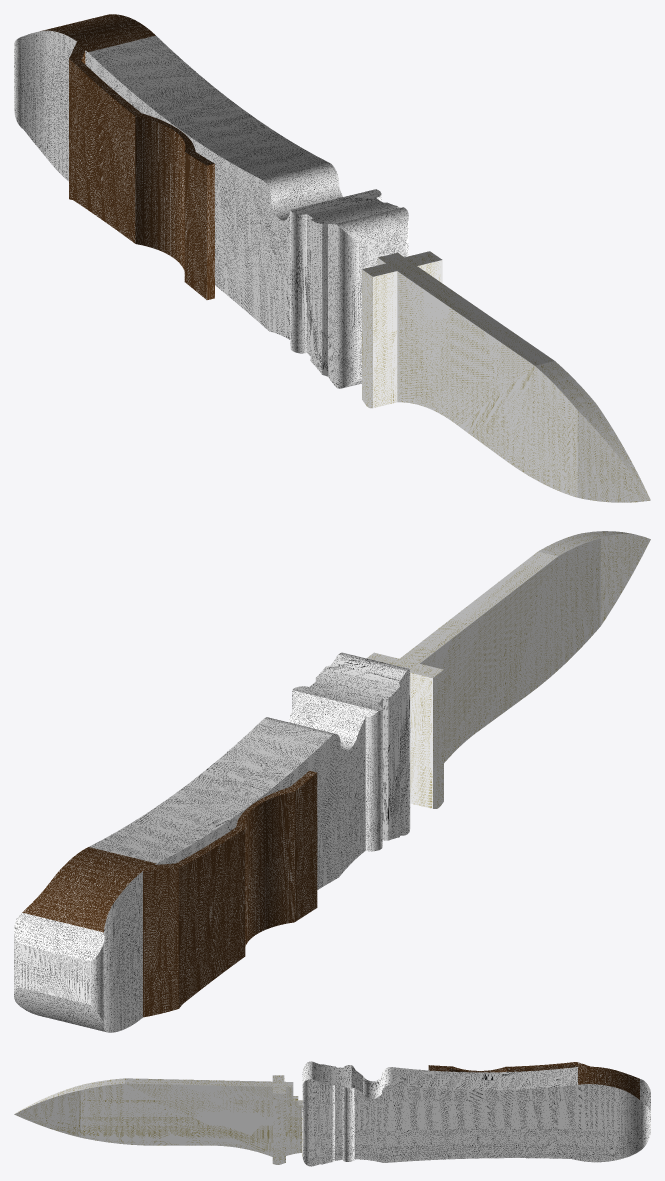
File: model_align.obj
3 views of the same model, one above another, from view 1: azimuth 30°, elevation 25°; view 2: azimuth 150°, elevation 25°; view 3: azimuth 270°, elevation 25° (orthographic). The views are drawn at different scales.
Parts seen in each view (by area): view 1: mesh1_mesh1-geometry; view 2: mesh1_mesh1-geometry; view 3: mesh1_mesh1-geometry.
Part boxes in pixels (bbox=[...]): mesh1_mesh1-geometry: bbox=[14, 14, 650, 502]; mesh1_mesh1-geometry: bbox=[14, 531, 650, 1032]; mesh1_mesh1-geometry: bbox=[14, 1061, 650, 1166].
Bounding box in the file's own units: 0.0193 × 0.0304 × 0.2013.
